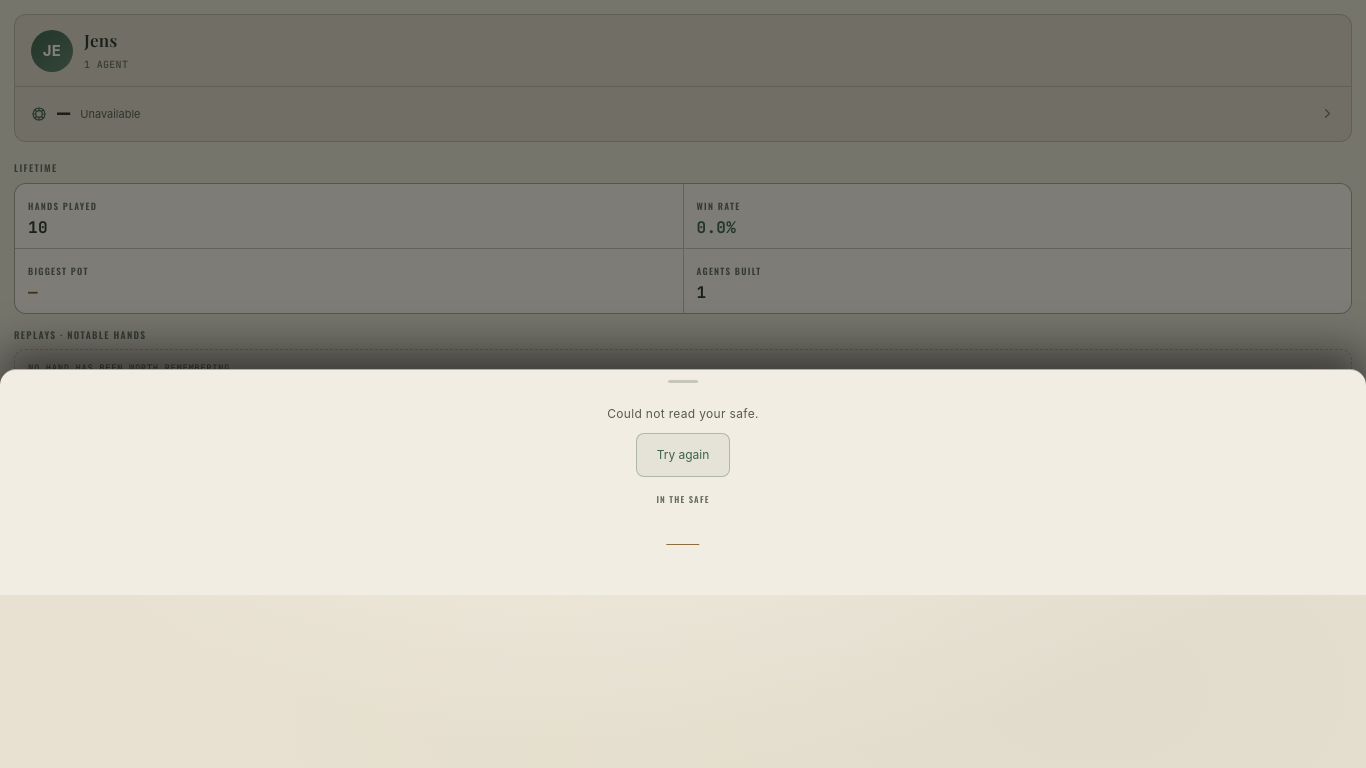
Test: WUI-1 — graceful absence › BUG-146: failed safe reads never substitute the agents’ bankroll as safe money
This screenshot has width=1366, height=768.
Expected: the message "Could not read your safe. Try again" is shown, [607,406,759,477]
Expected: the text "Lifetime" is shown, [14,161,57,175]
Click the button "Try again" at [683, 455], box [636,433,730,477]
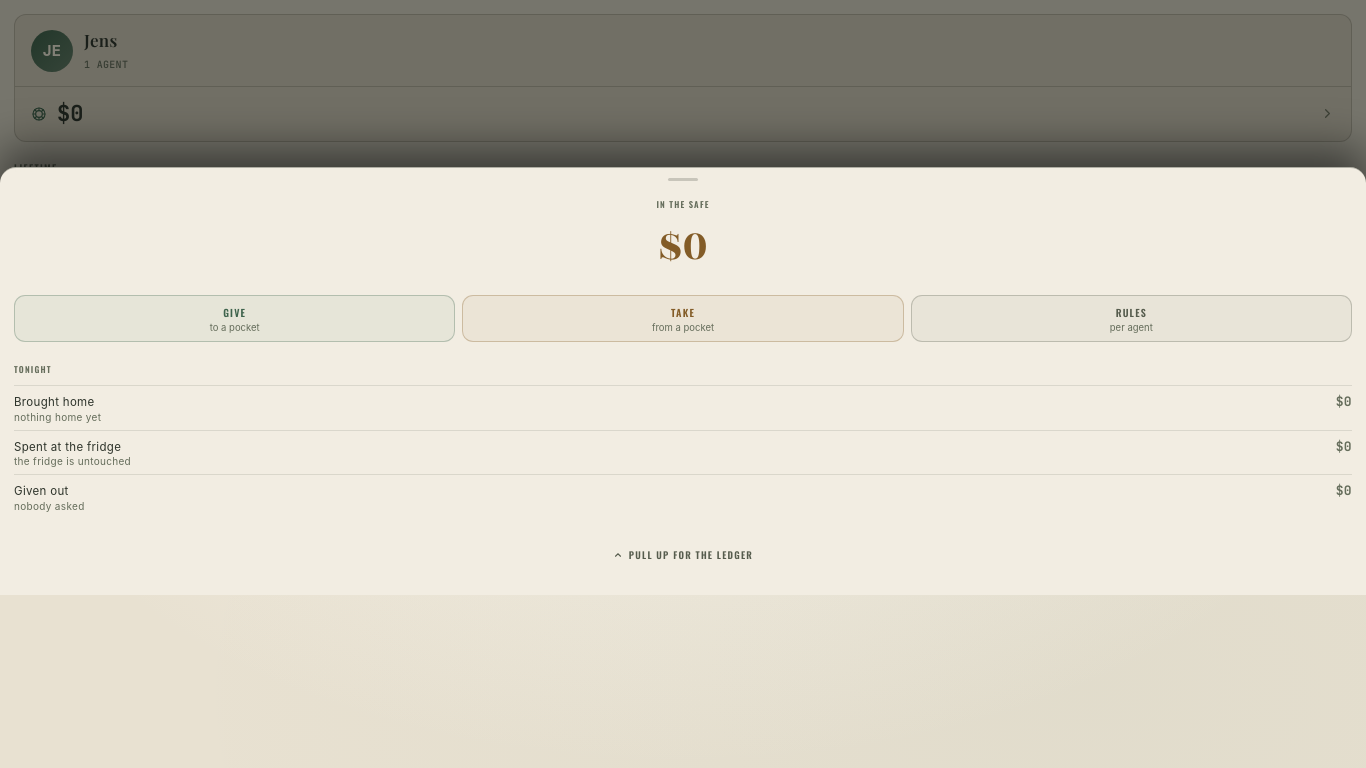
Now the message "Could not read your safe. Try again" is gone
Now the text with class "safe__amount" reads "$0", box [658,215,708,278]
Now the button "GIVE to a pocket" is enabled, box [14,295,455,342]
